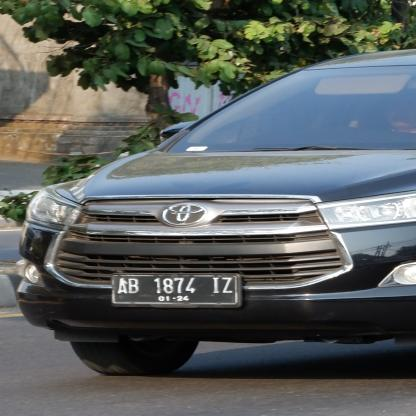Plat-Nomor: (112, 272, 247, 310)
